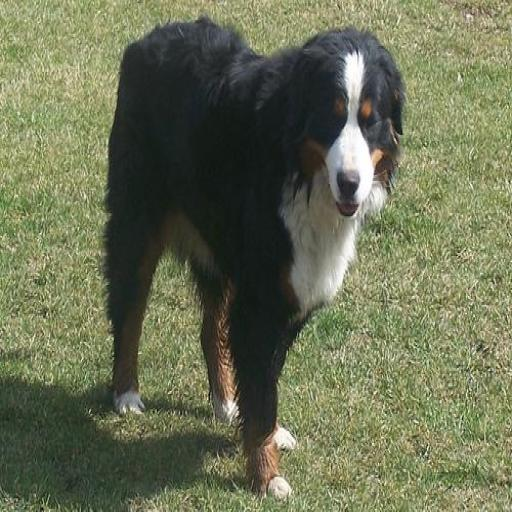dog_face: (286, 29, 404, 212)
